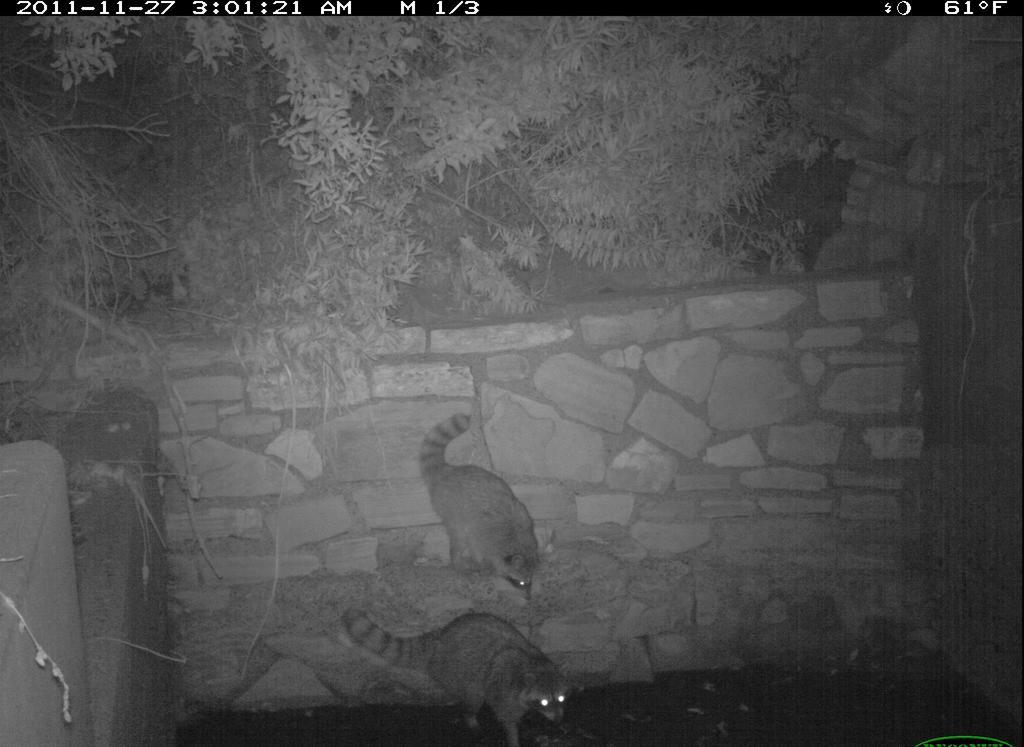raccoon: (338, 603, 575, 747), (413, 408, 559, 606)
